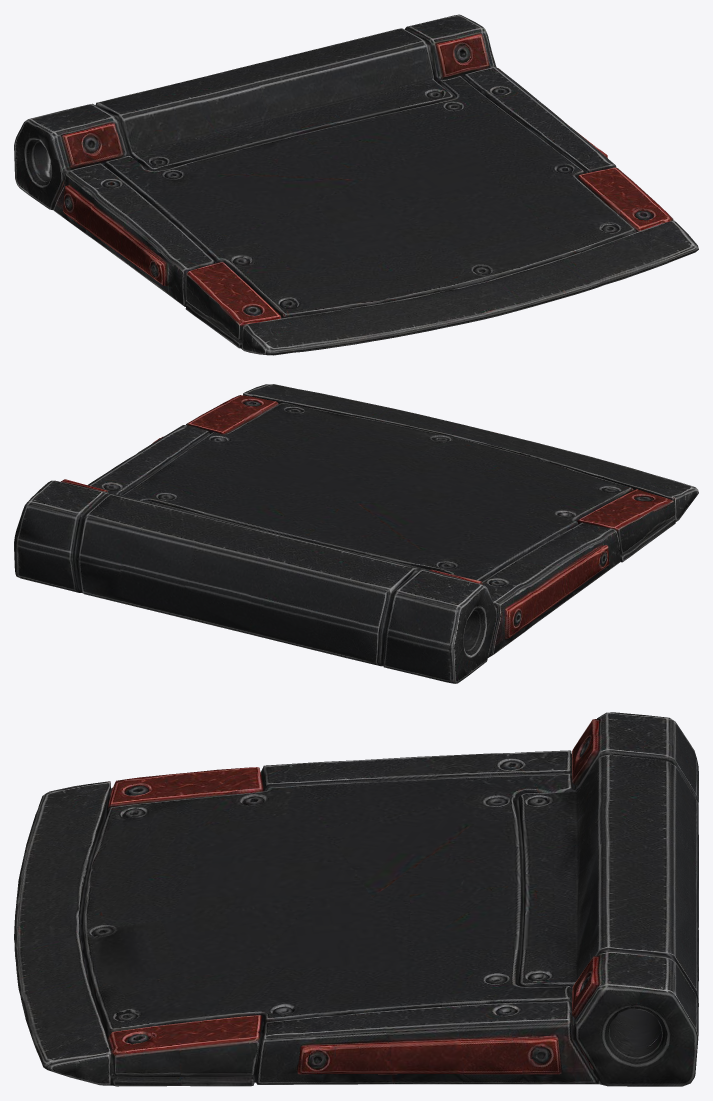
The model's file is new_flipper.glb.
3 views of the same model, one above another, from view 1: azimuth 30°, elevation 25°; view 2: azimuth 150°, elevation 25°; view 3: azimuth 270°, elevation 25° (orthographic). The views are drawn at different scales.
Parts seen in each view (by area): view 1: mesh_node; view 2: mesh_node; view 3: mesh_node.
Part boxes in pixels (x1,y1,x2,y2): mesh_node: (14,14,698,355); mesh_node: (14,384,698,683); mesh_node: (14,712,698,1086).
Size of the model in its own units: 1.88 by 0.3075 by 1.9.
1 material, 1 textured.
